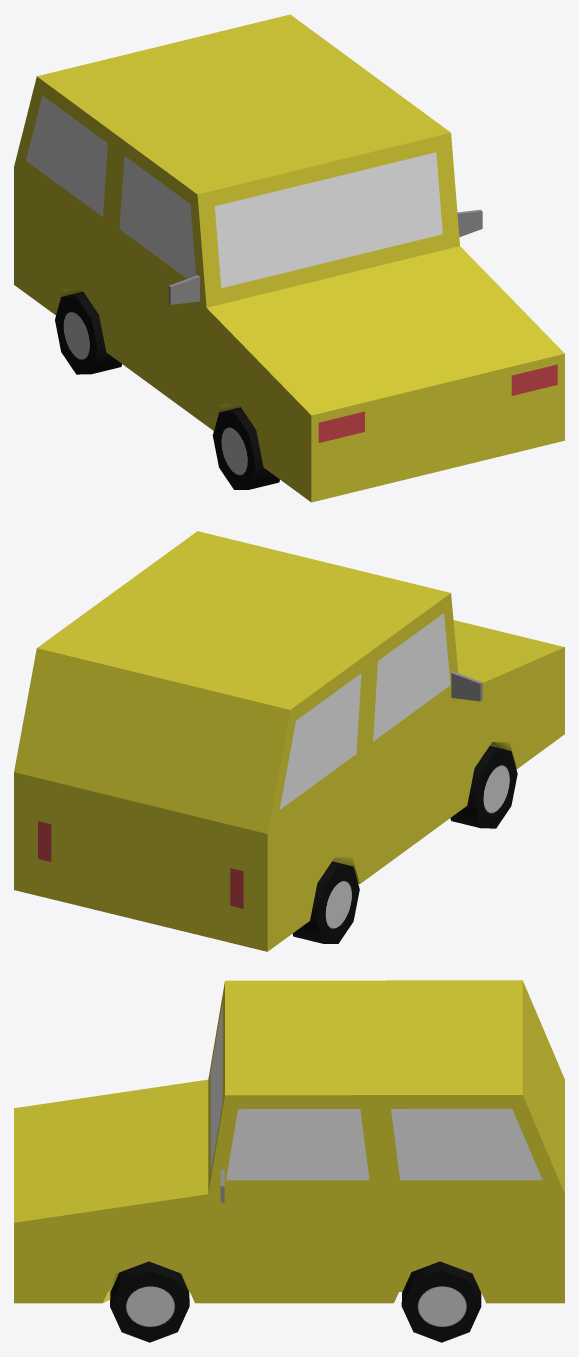
The model's file is Car_6.FBX.
3 renders of one model, top to bottom at view 1: azimuth 30°, elevation 25°; view 2: azimuth 150°, elevation 25°; view 3: azimuth 270°, elevation 25°, orthographic. The views are drawn at different scales.
Parts seen in each view (by area): view 1: Car 06; view 2: Car 06; view 3: Car 06.
Part boxes in pixels (left/top/right/bottom): Car 06: left=14, top=14, right=564, bottom=502; Car 06: left=14, top=531, right=564, bottom=951; Car 06: left=14, top=980, right=564, bottom=1342.
Bounding box in the file's own units: 1.87 × 1.52 × 3.1.
1 material, 1 textured.
